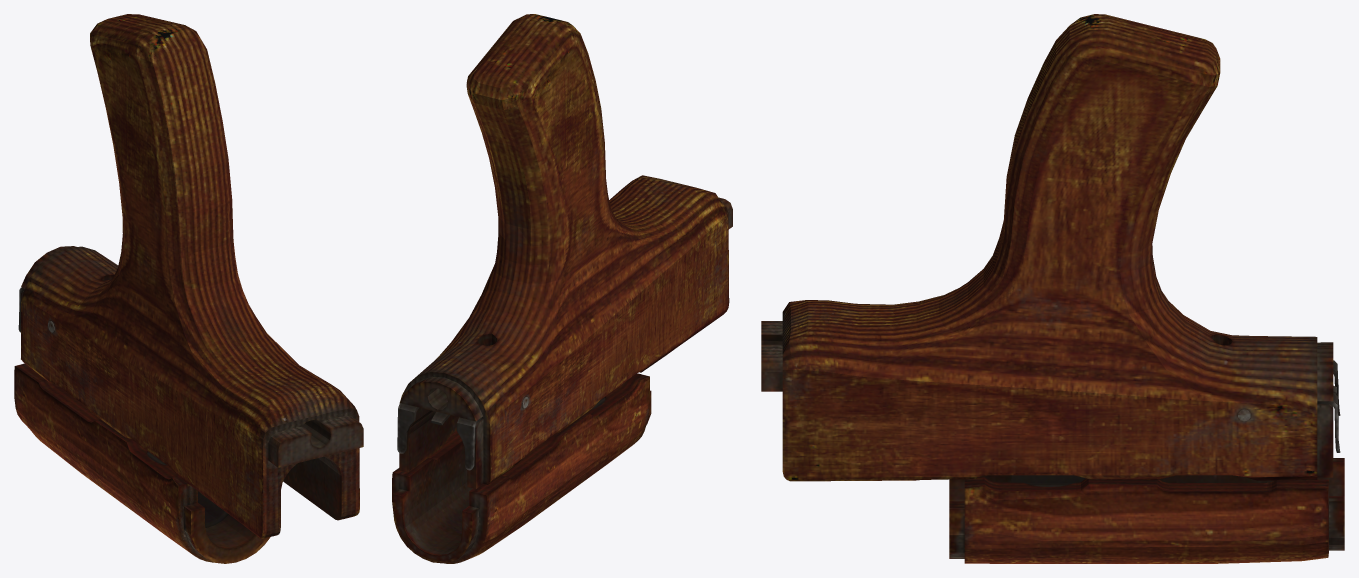
3 views of the same model, side by side, from view 1: azimuth 30°, elevation 25°; view 2: azimuth 150°, elevation 25°; view 3: azimuth 270°, elevation 25° (orthographic). The views are drawn at different scales.
Visible parts, largest first — view 1: TW_5d2c829448f0353a5c7d6674_PZ_Import; view 2: TW_5d2c829448f0353a5c7d6674_PZ_Import; view 3: TW_5d2c829448f0353a5c7d6674_PZ_Import.
Boxes of the visible parts, bbox=[...] form: TW_5d2c829448f0353a5c7d6674_PZ_Import: bbox=[14, 14, 363, 563]; TW_5d2c829448f0353a5c7d6674_PZ_Import: bbox=[392, 14, 732, 563]; TW_5d2c829448f0353a5c7d6674_PZ_Import: bbox=[761, 14, 1344, 563].
Size of the model in its own units: 0.0213 by 0.0962 by 0.0972.
Materials: 1 (1 with a texture image).
